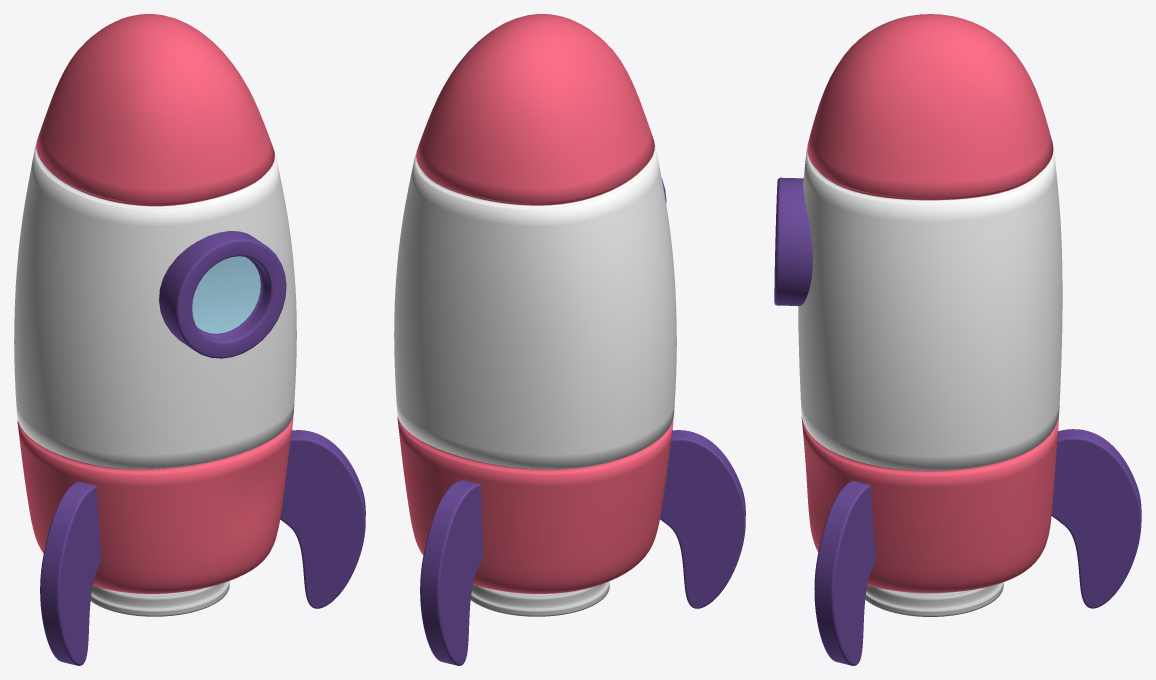
Rendered from rocket.gltf.
3 renders of one model, left to right at view 1: azimuth 30°, elevation 25°; view 2: azimuth 150°, elevation 25°; view 3: azimuth 270°, elevation 25°, orthographic.
Parts seen in each view (by area): view 1: Cube, Cylinder, BezierCircle.002, BezierCircle; view 2: Cube, BezierCircle, BezierCircle.001; view 3: Cube, BezierCircle.001, BezierCircle.002, Cylinder.
Part boxes in pixels (<box>): Cube: <box>14,14,296,616</box>; Cylinder: <box>159,231,286,358</box>; BezierCircle.002: <box>280,430,365,608</box>; BezierCircle: <box>40,481,101,665</box>; Cube: <box>394,14,676,616</box>; BezierCircle: <box>660,430,745,608</box>; BezierCircle.001: <box>420,480,483,665</box>; Cube: <box>798,14,1062,616</box>; BezierCircle.001: <box>1051,429,1141,608</box>; BezierCircle.002: <box>814,480,876,665</box>; Cylinder: <box>774,177,812,305</box>.
Size of the model in its own units: 136 by 234 by 133.
